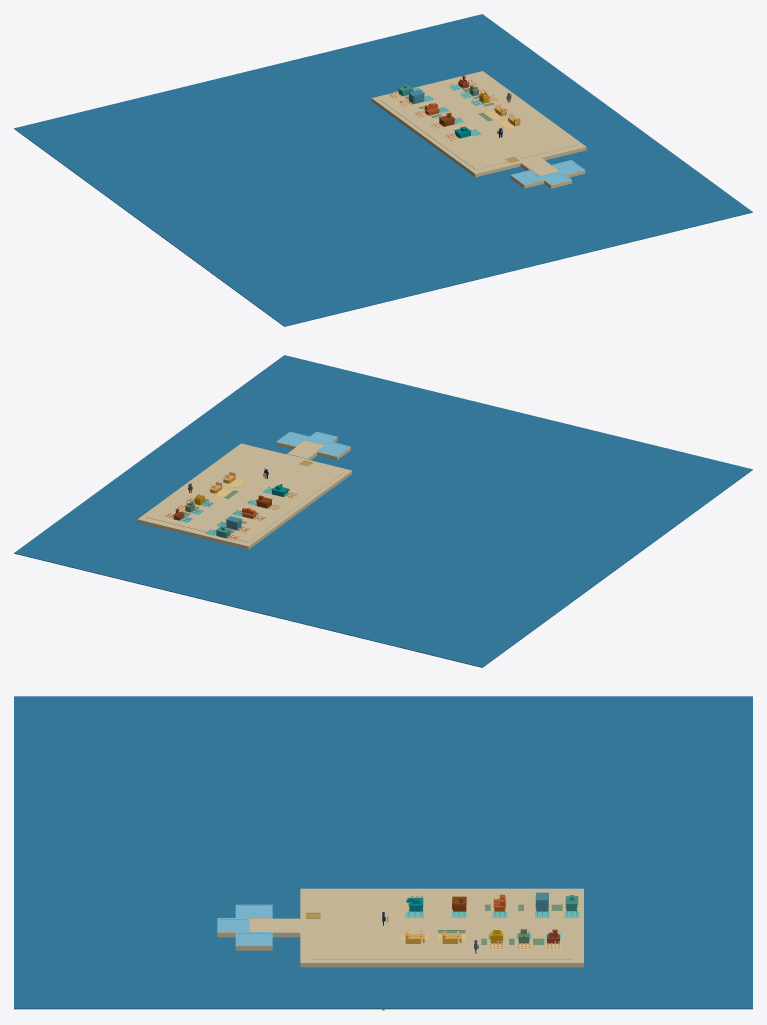
File: grand_marina_blockout.glb
3 renders of one model, top to bottom at view 1: azimuth 30°, elevation 25°; view 2: azimuth 150°, elevation 25°; view 3: azimuth 270°, elevation 25°, orthographic. The views are drawn at different scales.
Parts seen in each view (by area): view 1: Water, Ground_gm_land, Ground_gm_pier; view 2: Water, Ground_gm_land; view 3: Water, Ground_gm_land, Ground_gm_pier, Zone_gm_east, Zone_gm_west.
Part boxes in pixels (left/top/right/bottom): Water: left=14, top=14, right=752, bottom=326; Ground_gm_land: left=371, top=71, right=586, bottom=177; Ground_gm_pier: left=520, top=157, right=571, bottom=188; Water: left=14, top=355, right=752, bottom=667; Ground_gm_land: left=137, top=443, right=352, bottom=549; Water: left=14, top=696, right=752, bottom=1009; Ground_gm_land: left=300, top=888, right=583, bottom=967; Ground_gm_pier: left=217, top=918, right=302, bottom=937; Zone_gm_east: left=235, top=932, right=272, bottom=945; Zone_gm_west: left=235, top=904, right=272, bottom=917.
Size of the model in its own units: 80 by 11.84 by 80.
